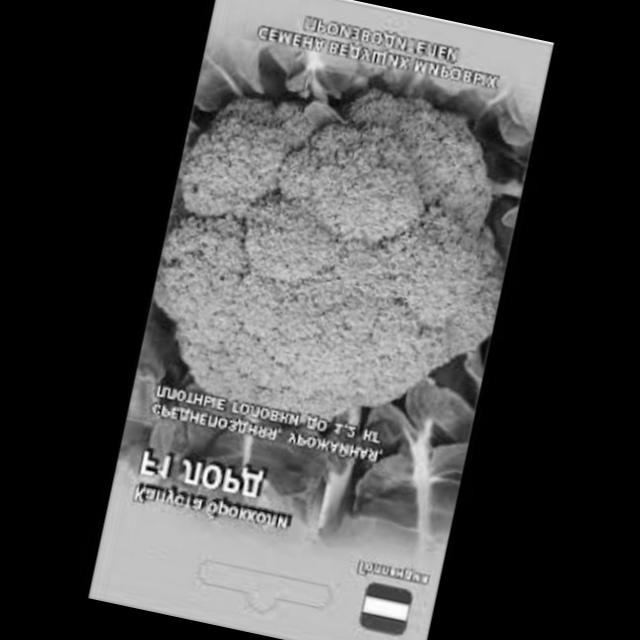bong cai xanh: (132, 44, 536, 456)
